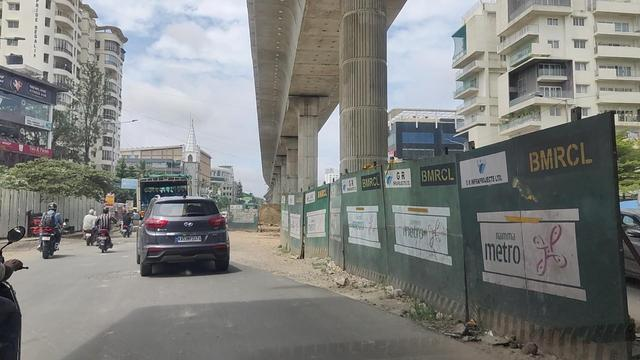LMV: (136, 195, 236, 276), (39, 201, 58, 260), (98, 205, 111, 251)
RoadDamages: (250, 258, 308, 288), (86, 269, 139, 282)
